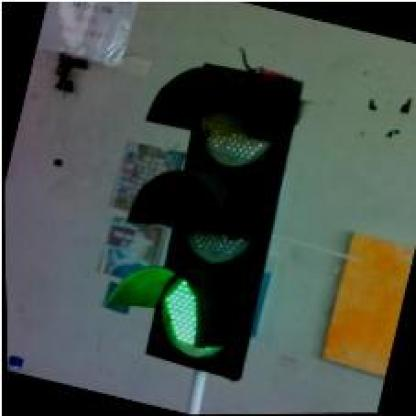green: (87, 50, 313, 382)
